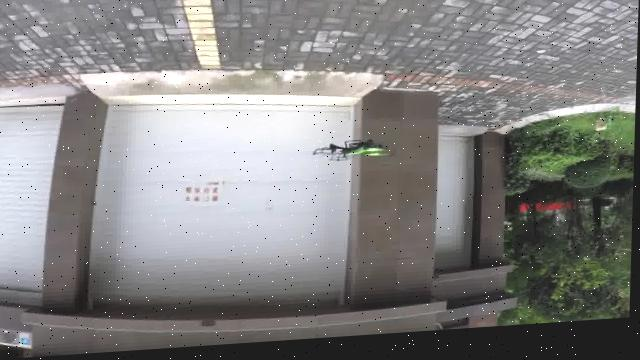drone: (306, 133, 398, 178)
